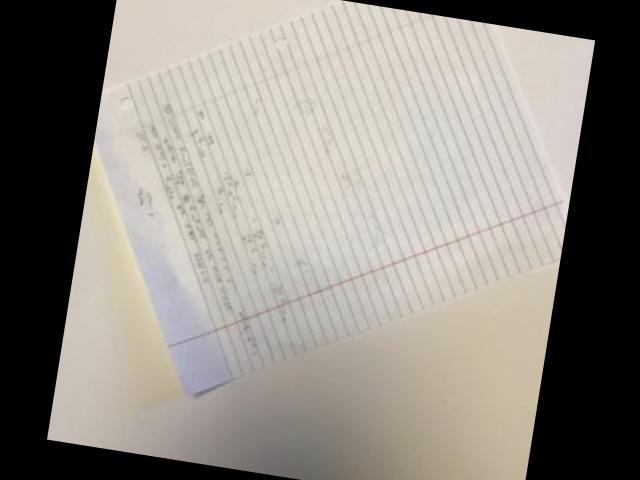cardboard paper: (94, 1, 567, 392)
